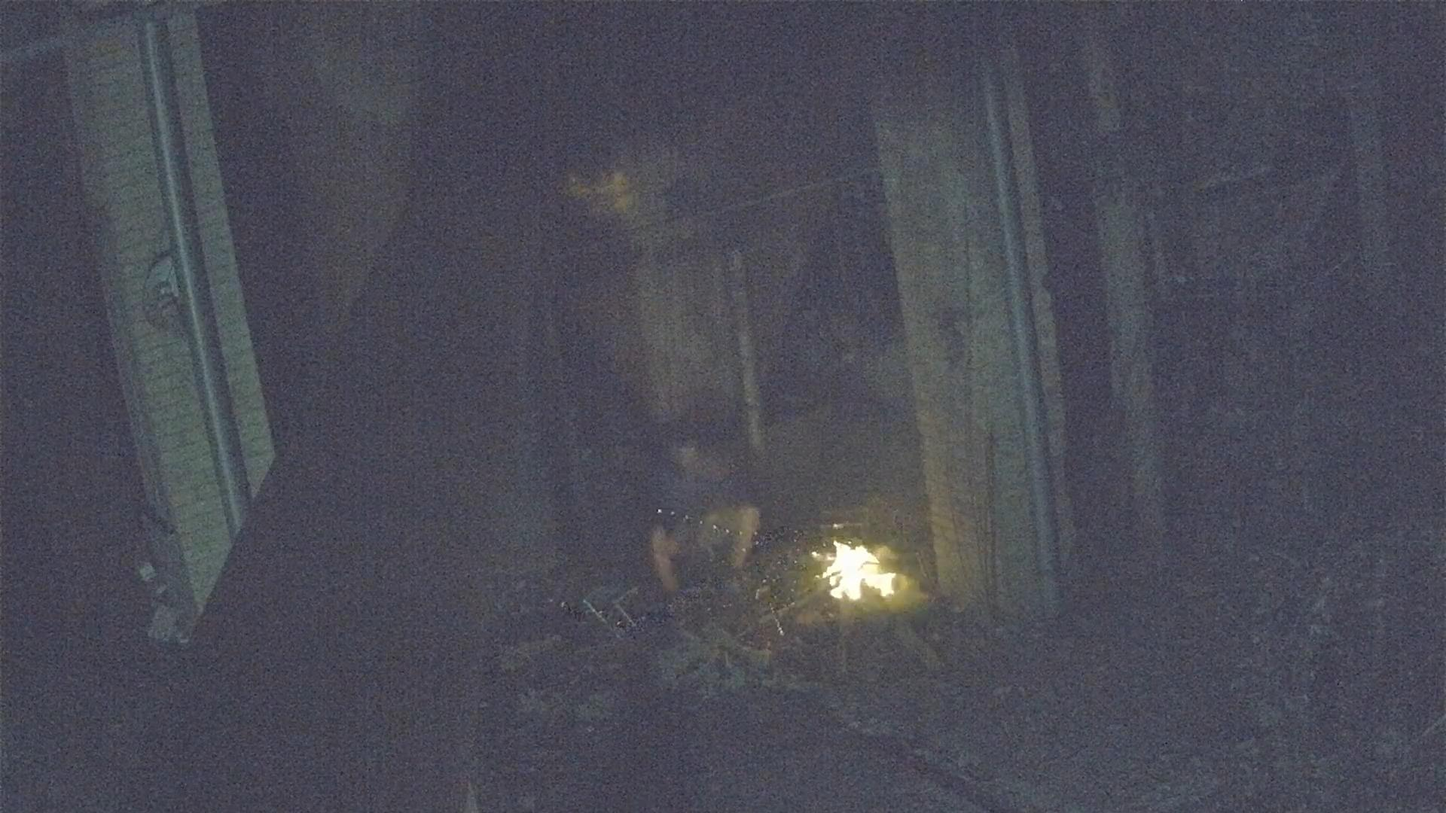fire: (823, 542, 895, 601)
